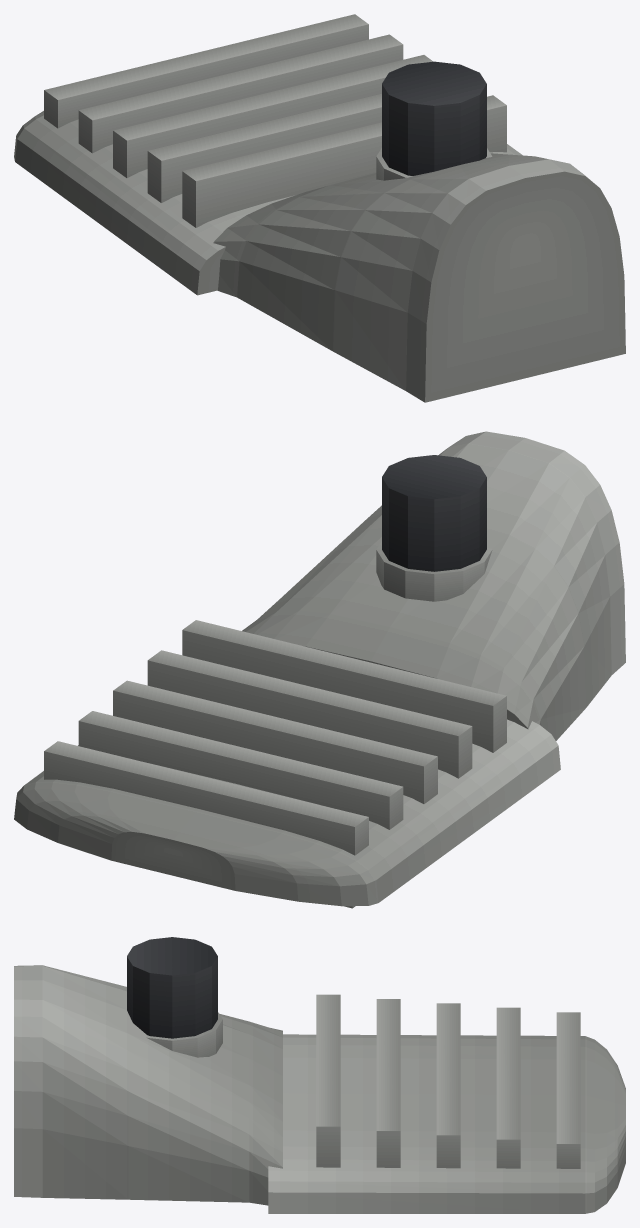
Rendered from streetlight_geeals.obj.
3 renders of one model, top to bottom at view 1: azimuth 30°, elevation 25°; view 2: azimuth 150°, elevation 25°; view 3: azimuth 270°, elevation 25°, orthographic. The views are drawn at different scales.
Parts seen in each view (by area): view 1: fixture; view 2: fixture; view 3: fixture.
Boxes of the visible parts, bbox=[...] form: fixture: bbox=[14, 14, 625, 402]; fixture: bbox=[14, 431, 625, 908]; fixture: bbox=[14, 937, 625, 1213].
Bounding box in the file's own units: 0.475 × 0.2844 × 0.7966.
